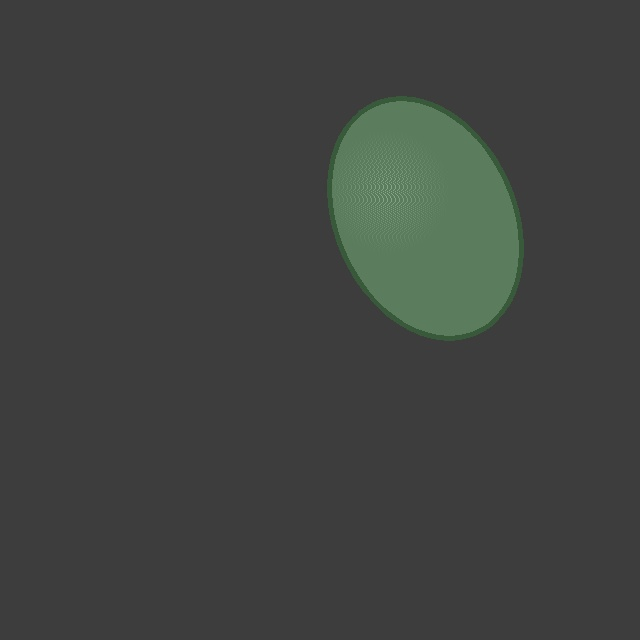lens: (329, 98, 521, 338)
